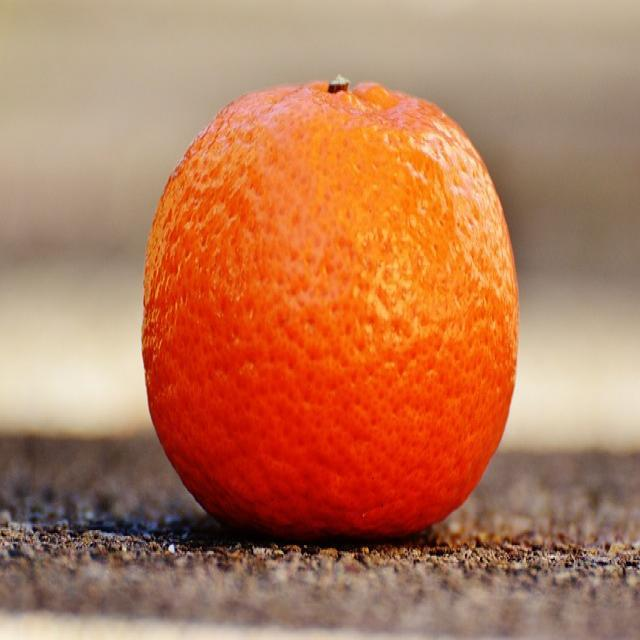Orange: (143, 74, 522, 534)
